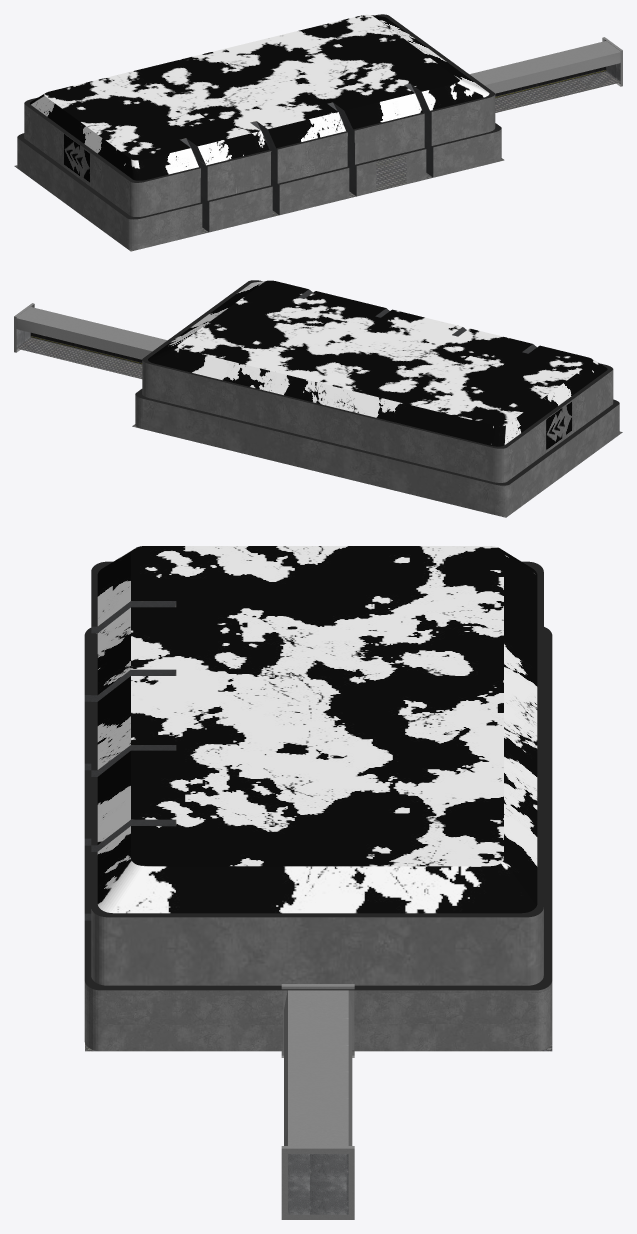
Rendered from mapa2.obj.
The picture shows the model from 3 angles, top to bottom: view 1: azimuth 30°, elevation 25°; view 2: azimuth 150°, elevation 25°; view 3: azimuth 270°, elevation 25°; orthographic projection. The views are drawn at different scales.
Parts seen in each view (by area): view 1: SalaEntrenamiento_Entrenamiento_Cube.002, Culo_Pasillo.001_Cube.060_Cube.001, Pasillo1.002_Cube.029_Cube.001, Pasillo2.002_Cube.018_Cube.001, Pasillo3.002_Cube.018, Pasillo4.002_Cube.031_Cube.001; view 2: SalaEntrenamiento_Entrenamiento_Cube.002, Culo_Pasillo.001_Cube.060_Cube.001, Pasillo1.002_Cube.029_Cube.001, Pasillo2.002_Cube.018_Cube.001, Pasillo3.002_Cube.018, Pasillo4.002_Cube.031_Cube.001; view 3: SalaEntrenamiento_Entrenamiento_Cube.002, Culo_Pasillo.001_Cube.060_Cube.001, Final_Pasillo_Cube.033_Cube.024, Pasillo2.002_Cube.018_Cube.001, Pasillo1.002_Cube.029_Cube.001, Pasillo3.002_Cube.018, Pasillo4.002_Cube.031_Cube.001.
Part boxes in pixels (box(x1,y1,x2,y2)): SalaEntrenamiento_Entrenamiento_Cube.002: box(14, 14, 504, 251); Culo_Pasillo.001_Cube.060_Cube.001: box(576, 37, 622, 89); Pasillo1.002_Cube.029_Cube.001: box(549, 48, 592, 96); Pasillo2.002_Cube.018_Cube.001: box(521, 55, 565, 102); Pasillo3.002_Cube.018: box(495, 61, 537, 109); Pasillo4.002_Cube.031_Cube.001: box(469, 68, 510, 112); SalaEntrenamiento_Entrenamiento_Cube.002: box(132, 280, 622, 517); Culo_Pasillo.001_Cube.060_Cube.001: box(14, 303, 60, 355); Pasillo1.002_Cube.029_Cube.001: box(44, 314, 87, 362); Pasillo2.002_Cube.018_Cube.001: box(71, 321, 115, 368); Pasillo3.002_Cube.018: box(99, 327, 142, 375); Pasillo4.002_Cube.031_Cube.001: box(126, 334, 167, 378); SalaEntrenamiento_Entrenamiento_Cube.002: box(84, 546, 552, 1051); Culo_Pasillo.001_Cube.060_Cube.001: box(281, 1124, 354, 1219); Final_Pasillo_Cube.033_Cube.024: box(281, 984, 354, 1057); Pasillo2.002_Cube.018_Cube.001: box(284, 1071, 352, 1117); Pasillo1.002_Cube.029_Cube.001: box(284, 1098, 352, 1143); Pasillo3.002_Cube.018: box(284, 1045, 352, 1090); Pasillo4.002_Cube.031_Cube.001: box(284, 1018, 352, 1063).
Size of the model in its own units: 108 by 15.28 by 40.35.
